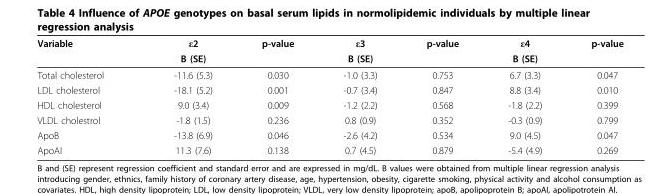table: (36, 37, 622, 155)
table column: (36, 37, 138, 155), (138, 37, 236, 155), (317, 37, 401, 155), (482, 37, 565, 155), (236, 37, 317, 155), (401, 37, 482, 155), (565, 37, 622, 155)
table column header: (36, 37, 622, 66)
table row: (36, 50, 622, 66), (36, 66, 622, 82), (36, 82, 622, 97), (36, 97, 622, 112), (36, 112, 622, 127), (36, 127, 622, 142), (36, 37, 622, 50), (36, 142, 622, 155)
table spanning cell: (36, 37, 138, 66), (138, 37, 236, 66), (317, 37, 401, 66), (482, 37, 565, 66), (236, 37, 317, 66), (401, 37, 482, 66), (565, 37, 622, 66)
